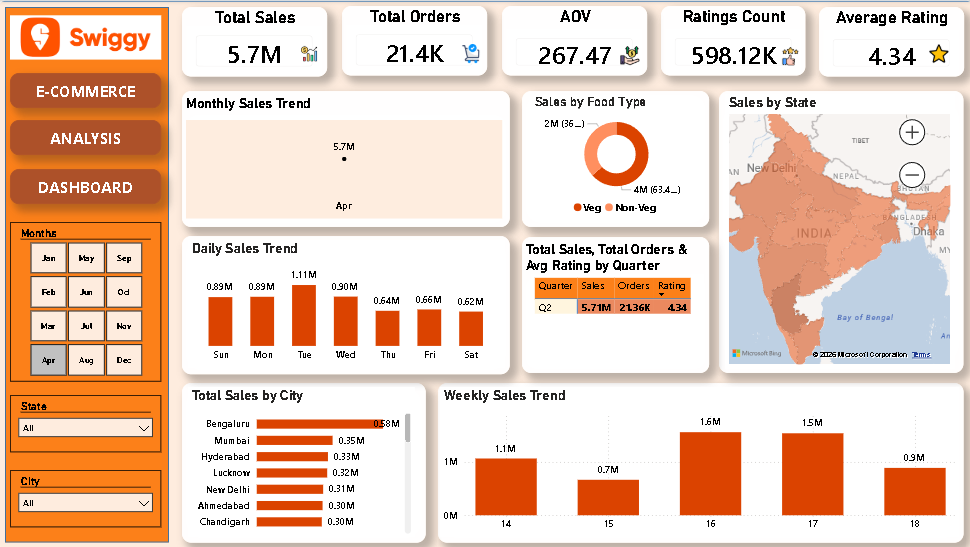

What the dashboard file says about the page in this screenshot:
{"tool":"powerbi","page":{"name":"Page 1","canvas":[1280,720],"ordinal":0},"visuals":[{"type":"shape","box":[0,0,1279.8,720],"z":0},{"type":"cardVisual","title":"Ratings Count","fields":{"Data":["Swiggy Data.Ratings Count"]},"box":[869.9,8,189,91],"z":1000},{"type":"cardVisual","title":"AOV","fields":{"Data":["Swiggy Data.Average Order Value"]},"box":[661.2,8,189.6,91],"z":2000},{"type":"shape","box":[10.3,8.8,214.5,700.9],"z":3000},{"type":"cardVisual","title":"Average Rating","fields":{"Data":["Swiggy Data.Average Rating"]},"box":[1075.6,8.8,189.6,91],"z":4000},{"type":"cardVisual","title":"Total Orders","fields":{"Data":["Swiggy Data.Total Orders"]},"box":[451.1,8,189.6,91],"z":5000},{"type":"cardVisual","title":"Total Sales","fields":{"Data":["Swiggy Data.Total Sales"]},"box":[242.4,8.8,189.6,91.1],"z":6000},{"type":"image","box":[398.2,54.4,20.6,30.9],"z":7000},{"type":"image","box":[1213.7,57.3,39.7,25],"z":8000},{"type":"image","box":[809.6,60.2,39.7,25],"z":9000},{"type":"image","box":[1016.8,61.7,42.6,23.5],"z":10000},{"type":"image","box":[601,57.3,39.7,25],"z":11000},{"type":"image","box":[17.6,17.6,198.4,64.7],"z":12000},{"type":"shape","title":"Monthly Sales Trend","box":[242.4,119,429.1,177.8],"z":13000},{"type":"lineChart","title":"Monthly Sales Trend","fields":{"Category":["Swiggy Data.Months"],"Y":["Swiggy Data.Total Sales"]},"box":[246.9,157.2,414.4,129.3],"z":14000},{"type":"shape","box":[577.5,501.1,687.7,208.7],"z":15000},{"type":"shape","title":"Sales by Food Type","box":[687.7,119,245.4,177.8],"z":16000},{"type":"shape","box":[944.8,119,320.3,368.8],"z":17000},{"type":"shape","box":[242.4,501.1,318.9,208.7],"z":18000},{"type":"shape","box":[242.4,308.6,429.1,180.7],"z":19000},{"type":"shape","title":"Total Sales, Total Orders & Avg Rating by Quarter","box":[687.7,310,245.4,177.8],"z":20000},{"type":"donutChart","title":"Sales by Food Type","fields":{"Y":["Swiggy Data.Total Sales"],"Category":["Swiggy Data.Food Type"]},"box":[698.5,123.5,223.5,167.6],"z":21000},{"type":"clusteredColumnChart","title":"Daily Sales Trend","fields":{"Category":["Swiggy Data.Day"],"Y":["Swiggy Data.Total Sales"]},"box":[250,314.7,414.7,167.6],"z":22000},{"type":"pivotTable","fields":{"Rows":["Swiggy Data.Quarter"],"Values":["Swiggy Data.Total Sales","Swiggy Data.Total Orders","Avg(Swiggy Data.Rating)"]},"box":[698.5,358.8,226.5,114.7],"z":23000},{"type":"filledMap","title":"Sales by State","fields":{"Category":["Swiggy Data.State"]},"box":[952.9,123.5,300,358.8],"z":24000},{"type":"clusteredBarChart","fields":{"Category":["Swiggy Data.City"],"Y":["Swiggy Data.Total Sales"]},"box":[249.8,506.9,296.8,196.9],"z":25000},{"type":"slicer","fields":{"Values":["Swiggy Data.Months"]},"box":[17.6,290.9,198.4,208.7],"z":26000},{"type":"clusteredColumnChart","title":"Weekly Sales Trend","fields":{"Y":["Swiggy Data.Total Sales"],"Category":["Swiggy Data.Week"]},"box":[580.4,506.9,680.3,196.9],"z":27000},{"type":"slicer","fields":{"Values":["Swiggy Data.State"]},"box":[17.6,517.2,198.4,74.9],"z":28000},{"type":"slicer","fields":{"Values":["Swiggy Data.City"]},"box":[17.6,615.7,198.4,74.9],"z":29000},{"type":"shape","title":"DASHBOARD","box":[17.6,95.5,198.4,45.6],"z":30000},{"type":"shape","title":"DASHBOARD","box":[17.6,157.2,198.4,45.6],"z":31000},{"type":"shape","title":"DASHBOARD","box":[17.6,221.9,198.4,45.6],"z":32000}]}

Visuals, with their boxes in screenshot pixels (x1, y1, x2, y2), scaled from the page's 1280x720 canvas onto the 970x547 screenshot:
shape: rect(0, 0, 969, 546)
"Ratings Count" cardVisual: rect(659, 6, 802, 75)
"AOV" cardVisual: rect(501, 6, 645, 75)
shape: rect(8, 7, 170, 539)
"Average Rating" cardVisual: rect(815, 7, 959, 76)
"Total Orders" cardVisual: rect(342, 6, 486, 75)
"Total Sales" cardVisual: rect(184, 7, 327, 76)
image: rect(302, 41, 317, 65)
image: rect(920, 44, 950, 63)
image: rect(614, 46, 644, 65)
image: rect(771, 47, 803, 65)
image: rect(455, 44, 486, 63)
image: rect(13, 13, 164, 63)
"Monthly Sales Trend" shape: rect(184, 90, 509, 225)
"Monthly Sales Trend" lineChart: rect(187, 119, 501, 218)
shape: rect(438, 381, 959, 539)
"Sales by Food Type" shape: rect(521, 90, 707, 225)
shape: rect(716, 90, 959, 371)
shape: rect(184, 381, 425, 539)
shape: rect(184, 234, 509, 372)
"Total Sales, Total Orders & Avg Rating by Quarter" shape: rect(521, 236, 707, 371)
"Sales by Food Type" donutChart: rect(529, 94, 699, 221)
"Daily Sales Trend" clusteredColumnChart: rect(189, 239, 504, 366)
pivotTable - Swiggy Data.Quarter x Swiggy Data.Total Sales: rect(529, 273, 701, 360)
"Sales by State" filledMap: rect(722, 94, 949, 366)
clusteredBarChart - Swiggy Data.City x Swiggy Data.Total Sales: rect(189, 385, 414, 535)
slicer - Swiggy Data.Months: rect(13, 221, 164, 380)
"Weekly Sales Trend" clusteredColumnChart: rect(440, 385, 955, 535)
slicer - Swiggy Data.State: rect(13, 393, 164, 450)
slicer - Swiggy Data.City: rect(13, 468, 164, 525)
"DASHBOARD" shape: rect(13, 73, 164, 107)
"DASHBOARD" shape: rect(13, 119, 164, 154)
"DASHBOARD" shape: rect(13, 169, 164, 203)
